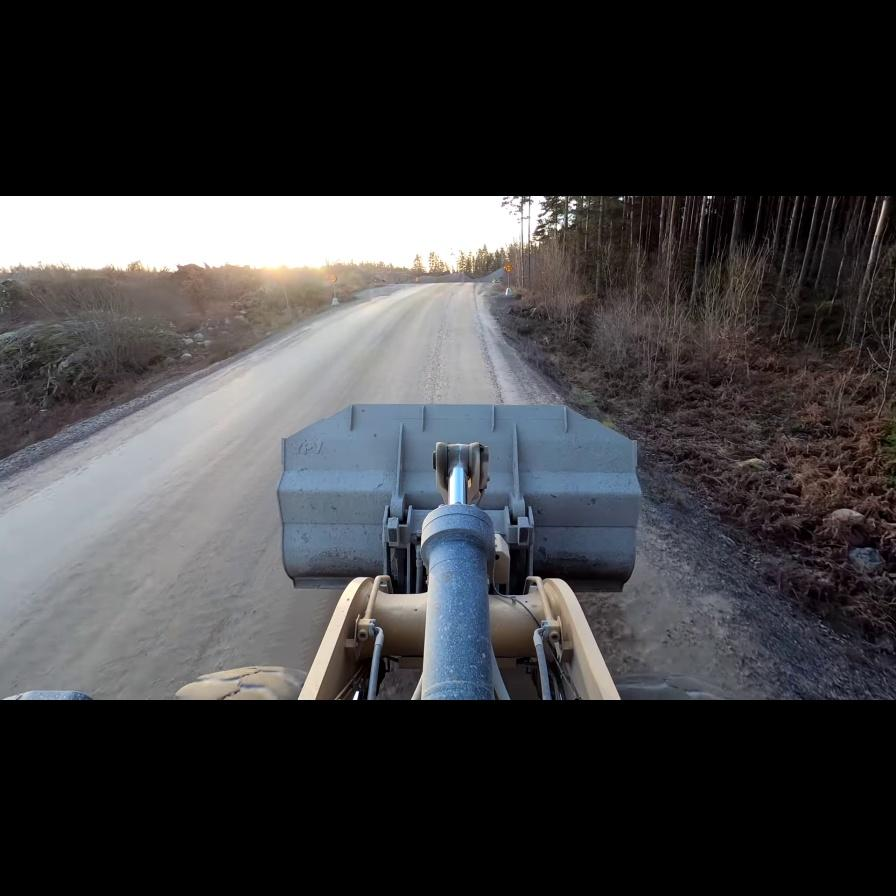anchor: (433, 442, 489, 506)
